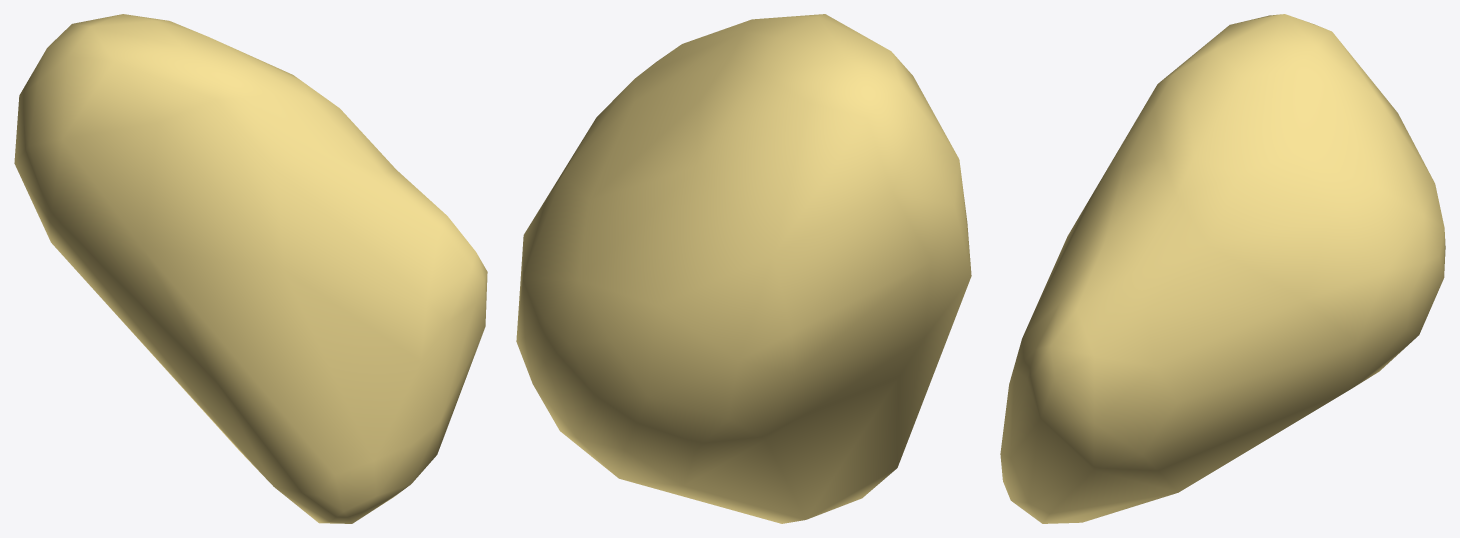
File: fma73310_fj1816m.glb
3 views of the same model, side by side, from view 1: azimuth 30°, elevation 25°; view 2: azimuth 150°, elevation 25°; view 3: azimuth 270°, elevation 25° (orthographic). The views are drawn at different scales.
Parts seen in each view (by area): view 1: FMA73310_FJ1816M; view 2: FMA73310_FJ1816M; view 3: FMA73310_FJ1816M.
Part boxes in pixels (box(x1,y1,x2,y2)): FMA73310_FJ1816M: box(14, 14, 487, 523); FMA73310_FJ1816M: box(516, 14, 971, 523); FMA73310_FJ1816M: box(1000, 14, 1445, 523).
Size of the model in its own units: 0.00652 by 0.00766 by 0.00707.
